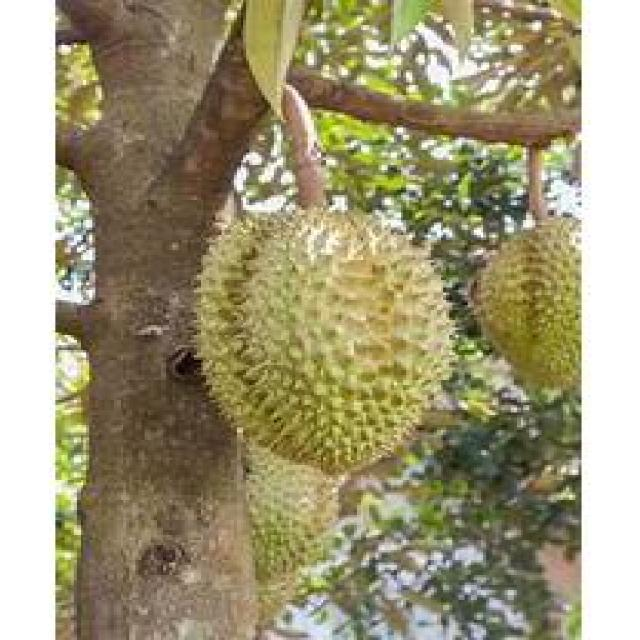fruit: (169, 180, 477, 492), (52, 430, 357, 640)
